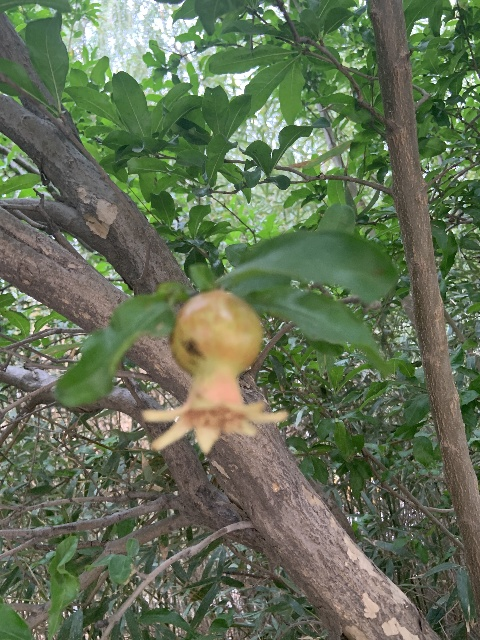early-fruit: (140, 290, 290, 457)
